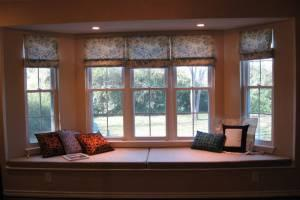window: (6, 28, 277, 147)
